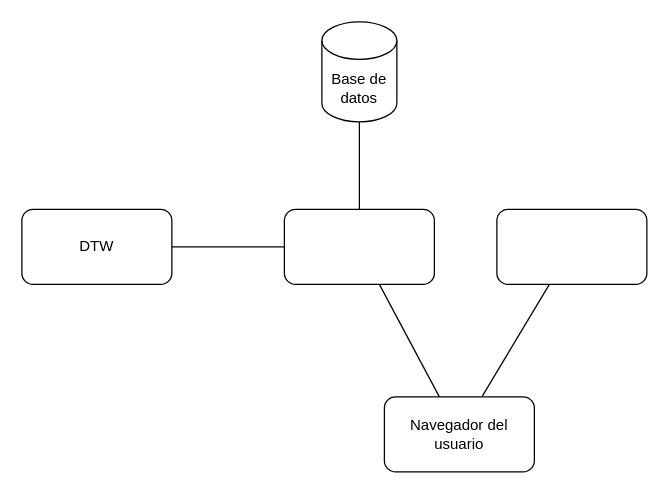
The diagram is 669 pixels wide and 494 high, and some of its shapes have lost their labels. Each missing label, with the centre of its shape:
Angular: the point at 571,246
FastAPI: the point at 358,246
